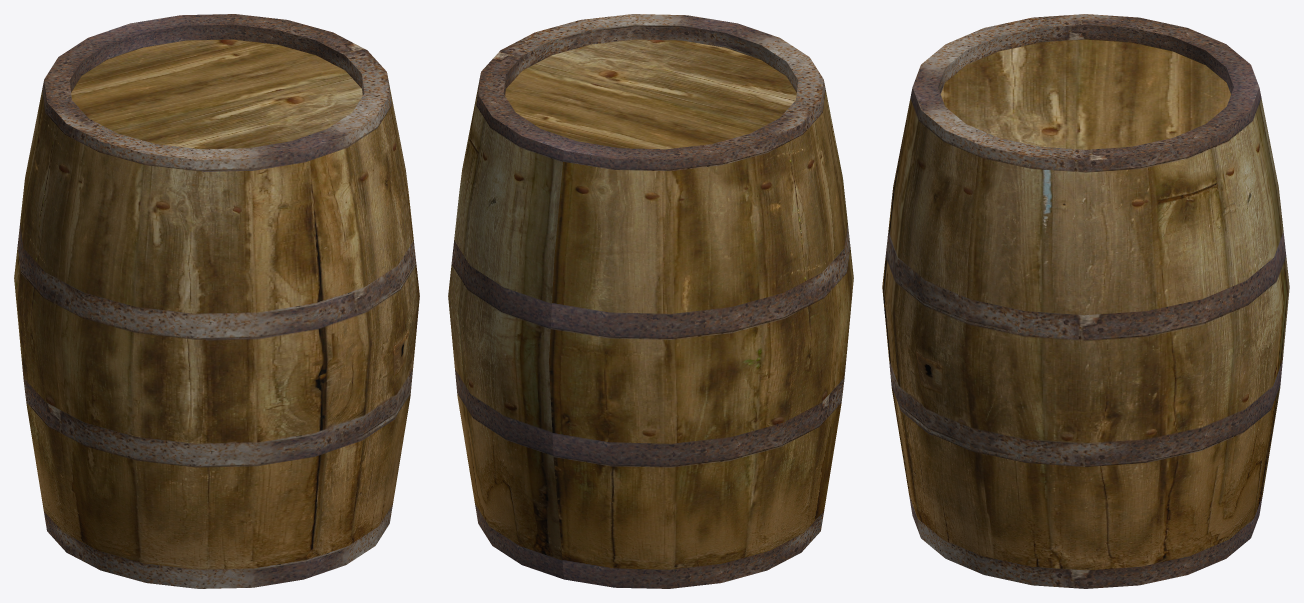
File: Barrel.fbx
3 renders of one model, left to right at view 1: azimuth 30°, elevation 25°; view 2: azimuth 150°, elevation 25°; view 3: azimuth 270°, elevation 25°, orthographic.
Visible parts, largest first — view 1: U3DMesh; view 2: U3DMesh; view 3: U3DMesh.
Boxes of the visible parts, <box> form: U3DMesh: <box>14,14,419,588</box>; U3DMesh: <box>448,14,853,588</box>; U3DMesh: <box>882,14,1289,588</box>.
Size of the model in its own units: 96.99 by 113 by 96.99.
Materials: 1 (1 with a texture image).
